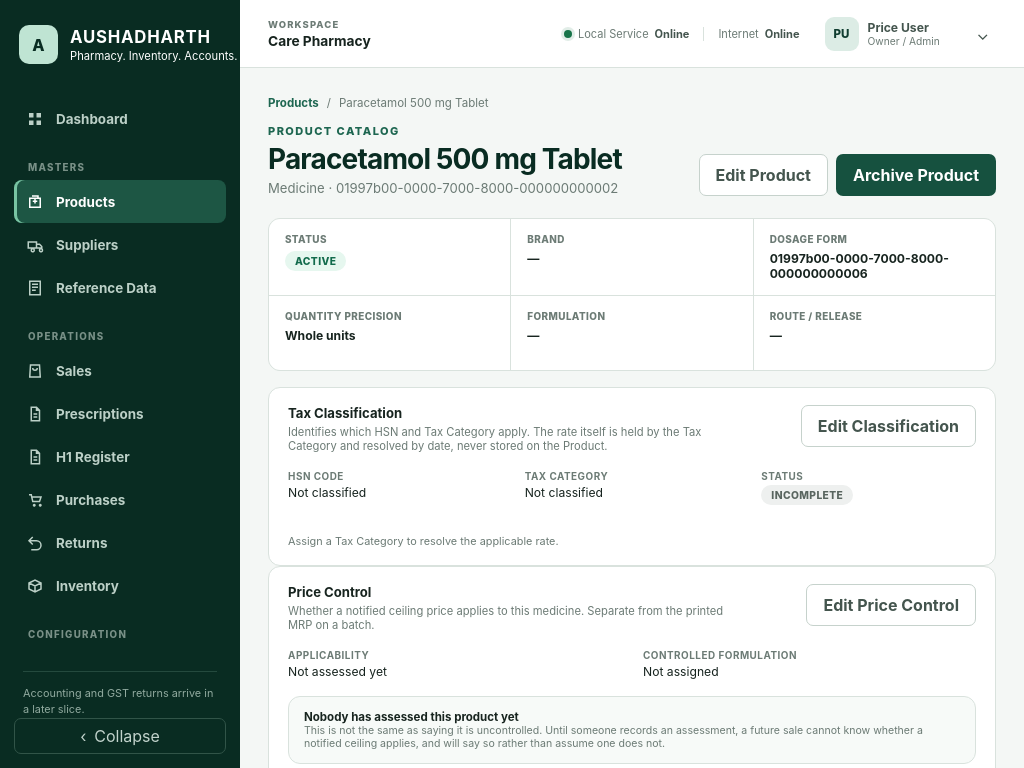
it: Product price control UI › surfaces a safe message when the service refuses the assertion
Click the button "Edit Price Control". click: [891, 605]
box: [806, 584, 976, 626]
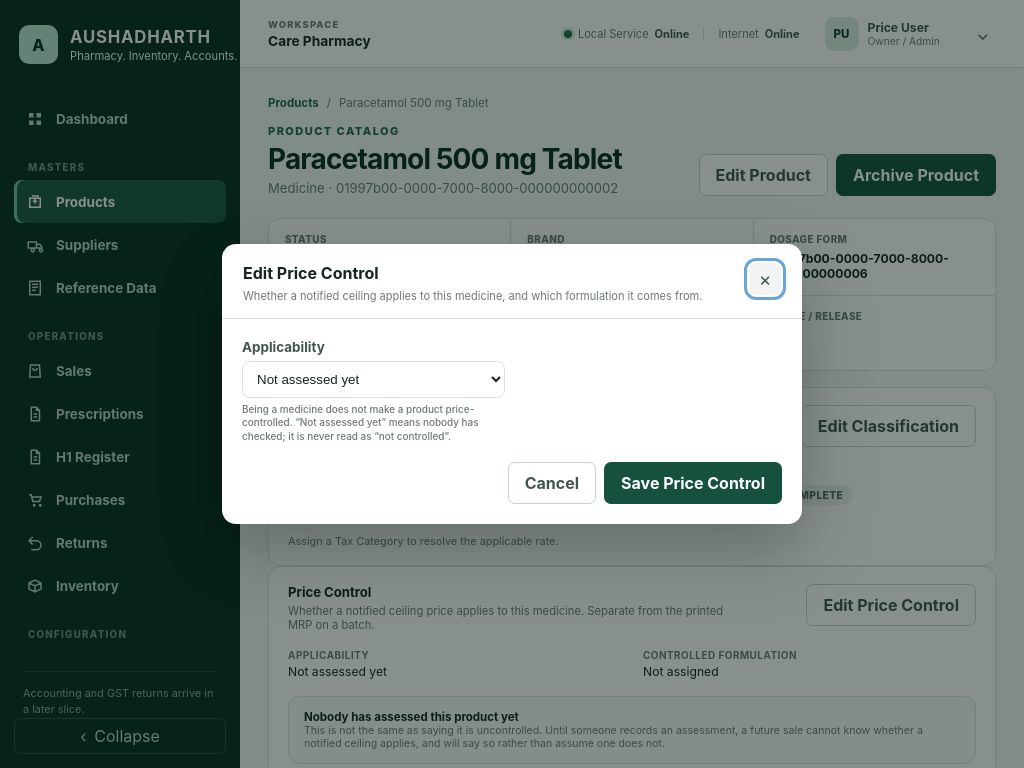
Select "Not price-controlled" in the dropdown labelled "Applicability". click: [373, 379]
box: [242, 361, 504, 398]
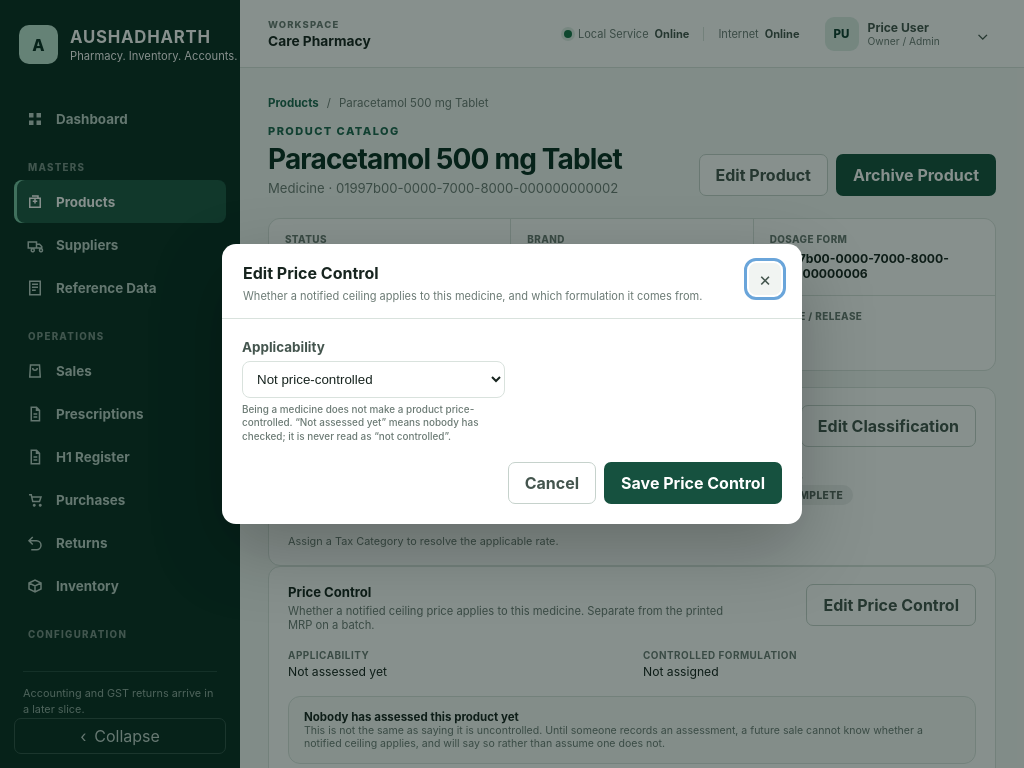
Click the button "Save Price Control". click: [693, 483]
box: [604, 462, 782, 504]
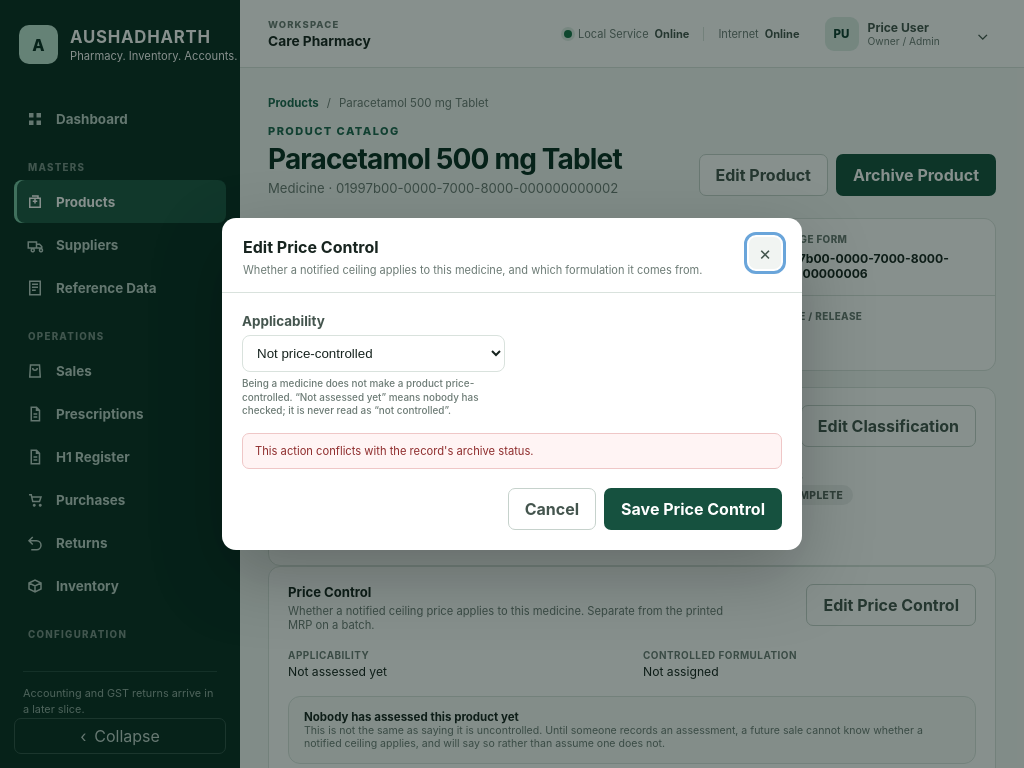
Expected: the message does not show "raw backend detail", [242, 433, 782, 469]
Expected: the message shows "archive status", [255, 444, 534, 458]
